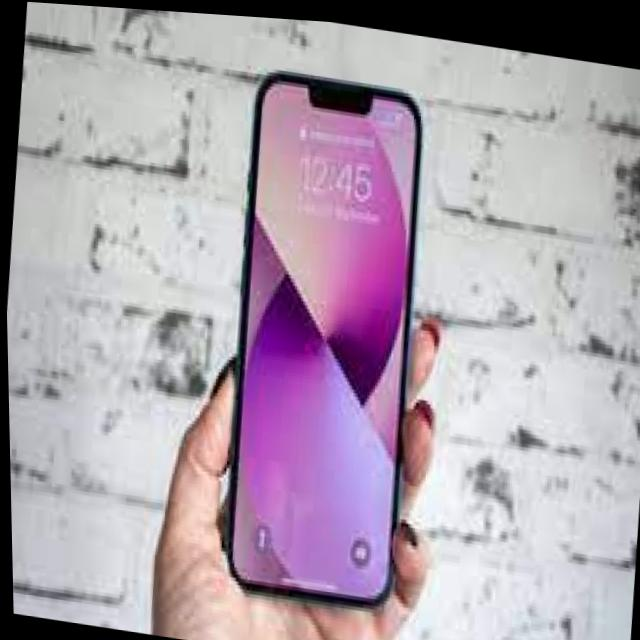Smartphone: (199, 46, 444, 625)
